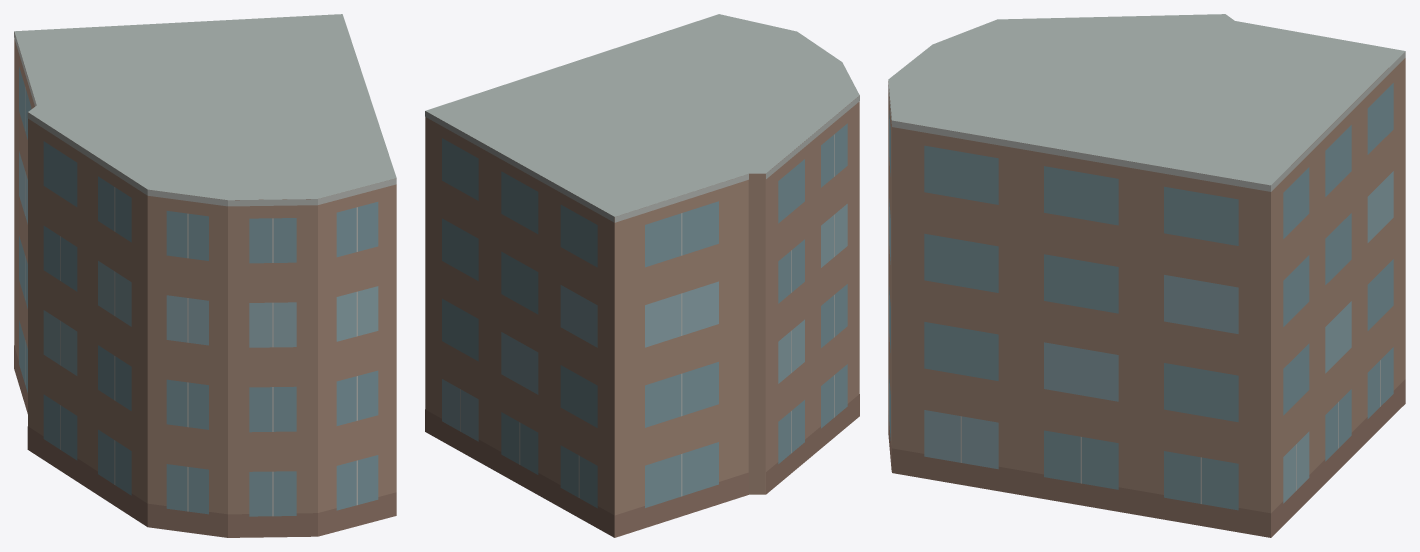
File: survey-upis-32747690.glb
The picture shows the model from 3 angles, left to right: view 1: azimuth 30°, elevation 25°; view 2: azimuth 150°, elevation 25°; view 3: azimuth 270°, elevation 25°; orthographic projection. The views are drawn at different scales.
Parts seen in each view (by area): view 1: survey-upis-32747690.tmp; view 2: survey-upis-32747690.tmp; view 3: survey-upis-32747690.tmp.
Part boxes in pixels (x1,y1,x2,y2): survey-upis-32747690.tmp: (14, 14, 396, 537); survey-upis-32747690.tmp: (425, 14, 859, 537); survey-upis-32747690.tmp: (888, 14, 1405, 537).
Size of the model in its own units: 13.78 by 13.2 by 17.57.
